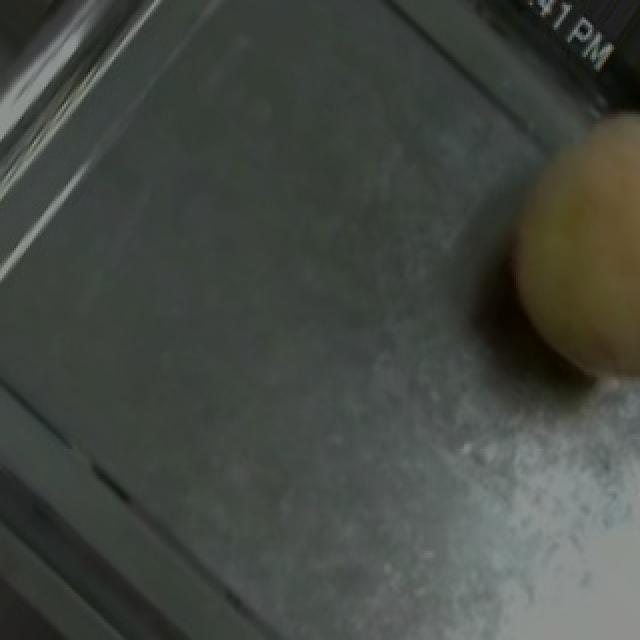Fruit: (460, 77, 640, 404)
